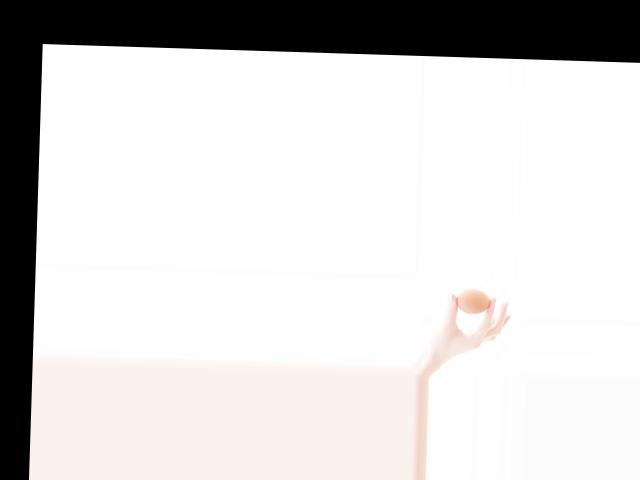egg: (456, 288, 490, 313)
